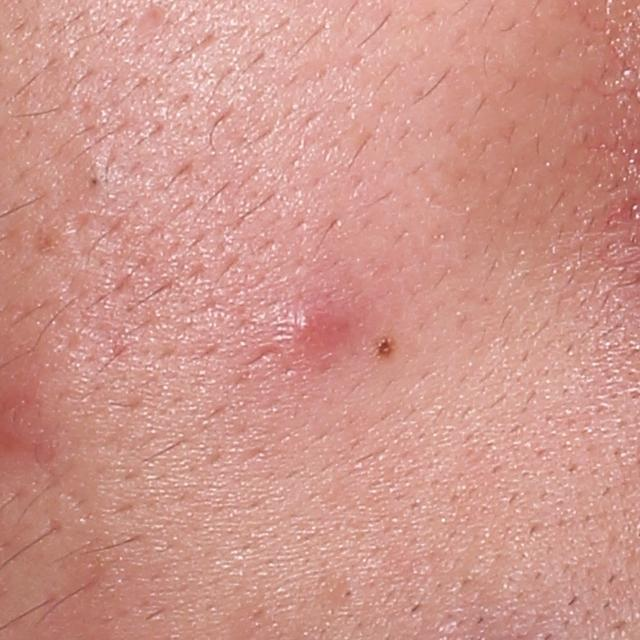comedo: (331, 576, 364, 605), (86, 172, 104, 195)
nevus: (374, 334, 399, 360)
papule: (266, 291, 357, 371)
